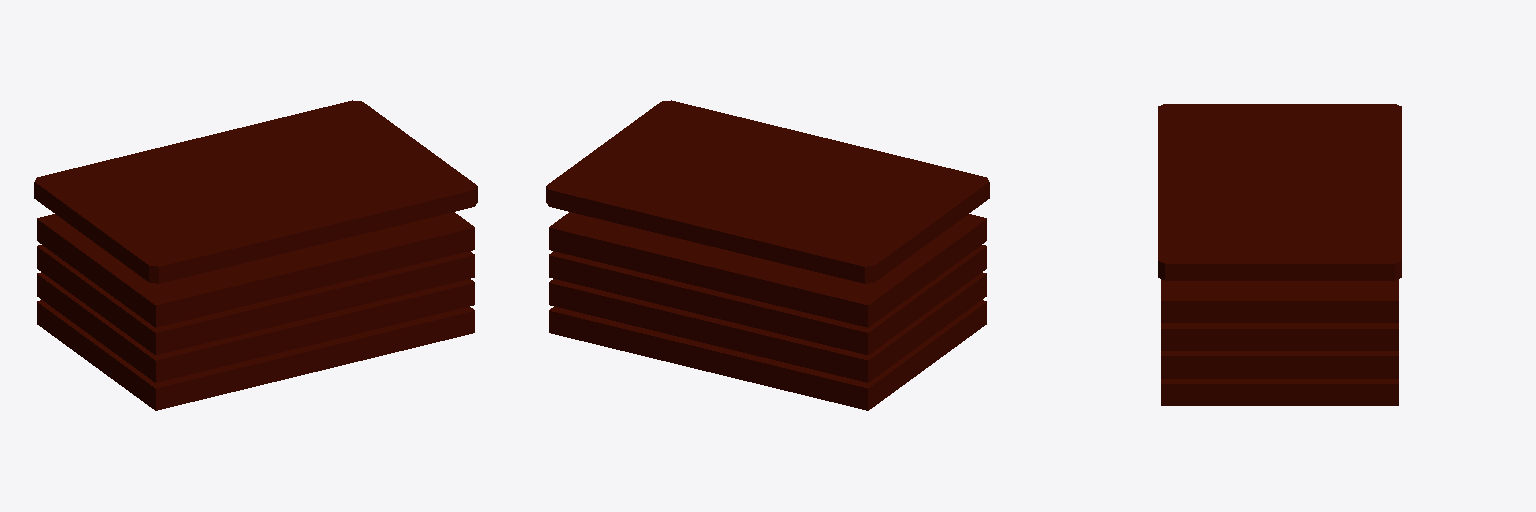
The model's file is basketDark.obj.
3 renders of one model, left to right at view 1: azimuth 30°, elevation 25°; view 2: azimuth 150°, elevation 25°; view 3: azimuth 270°, elevation 25°, orthographic.
Visible parts, largest first — view 1: Box277; view 2: Box277; view 3: Box277.
Boxes of the visible parts, box(x1,y1,x2,y2) form: Box277: box(34, 100, 477, 410); Box277: box(546, 100, 989, 410); Box277: box(1158, 104, 1401, 405).
Size of the model in its own units: 87.28 by 36.78 by 56.29.